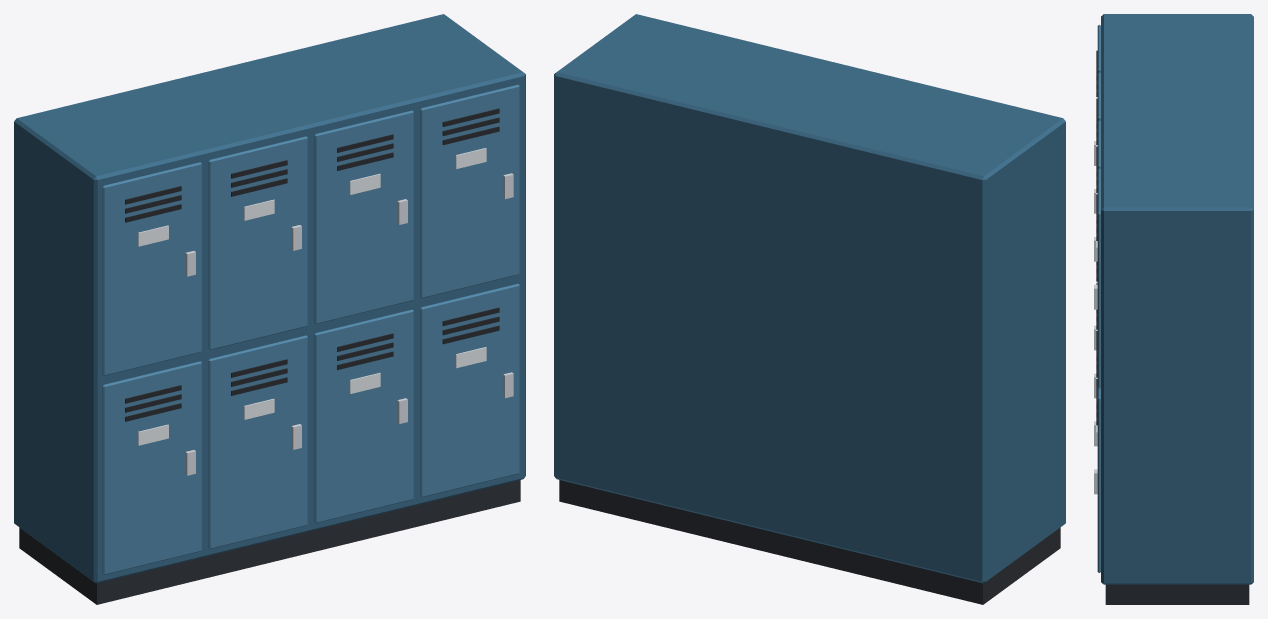
The model's file is gym_locker.glb.
3 views of the same model, side by side, from view 1: azimuth 30°, elevation 25°; view 2: azimuth 150°, elevation 25°; view 3: azimuth 270°, elevation 25° (orthographic). The views are drawn at different scales.
Parts seen in each view (by area): view 1: gym_locker; view 2: gym_locker; view 3: gym_locker.
Boxes of the visible parts, x1,y1,x2,y2 form: gym_locker: [14, 14, 525, 604]; gym_locker: [554, 14, 1065, 604]; gym_locker: [1094, 14, 1253, 604].
Size of the model in its own units: 2 by 1.9 by 0.69.
